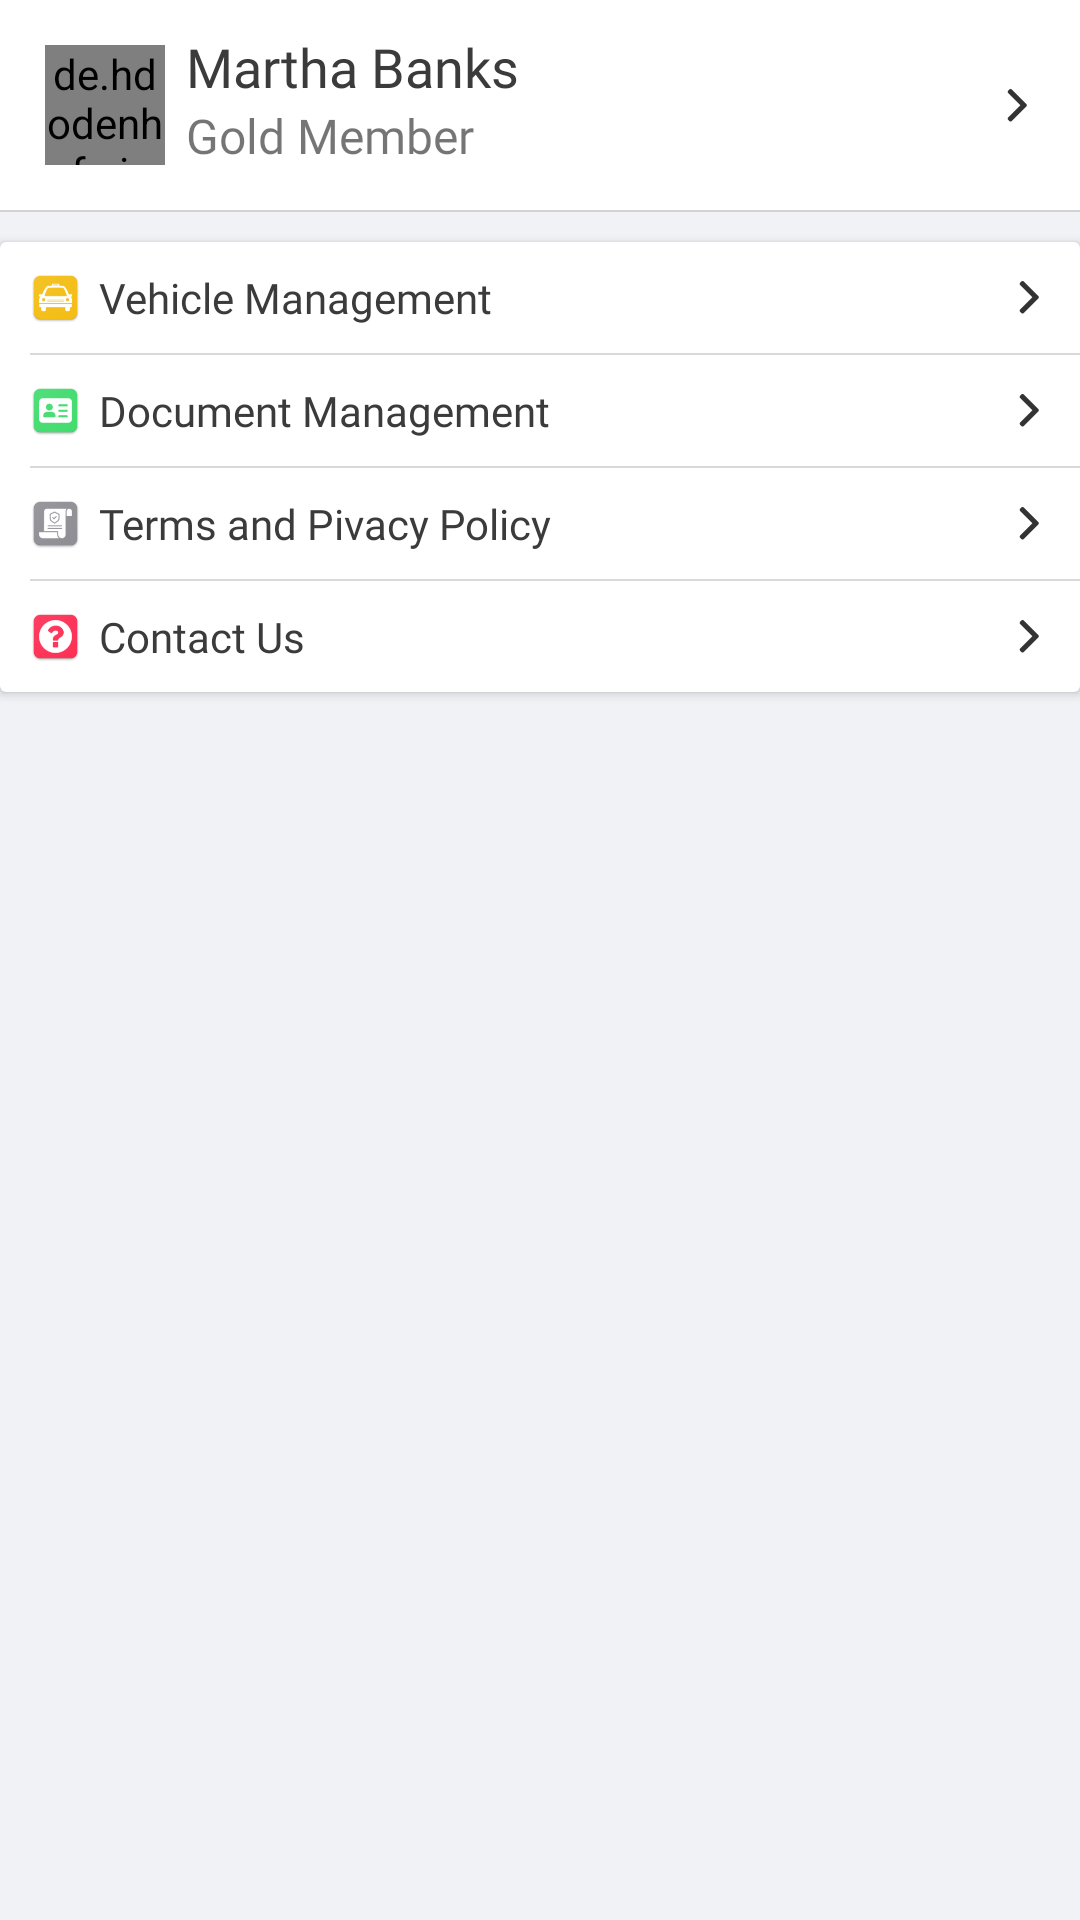

Screen size 1080*1920. Icon name, then its box in pixels as box(x1, y1, x2, y2):
doc: box(33, 388, 78, 434)
